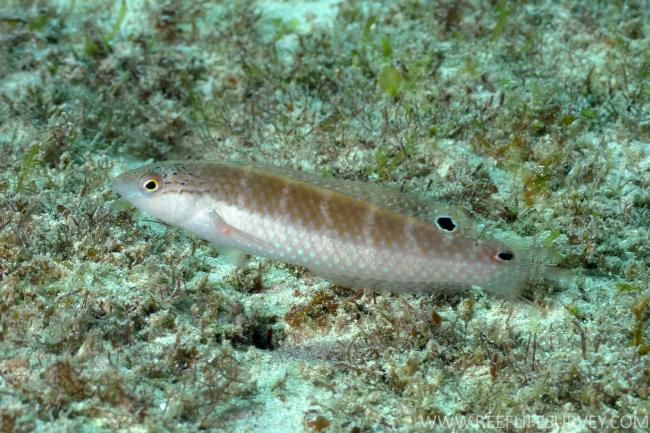fish: (112, 159, 528, 299)
